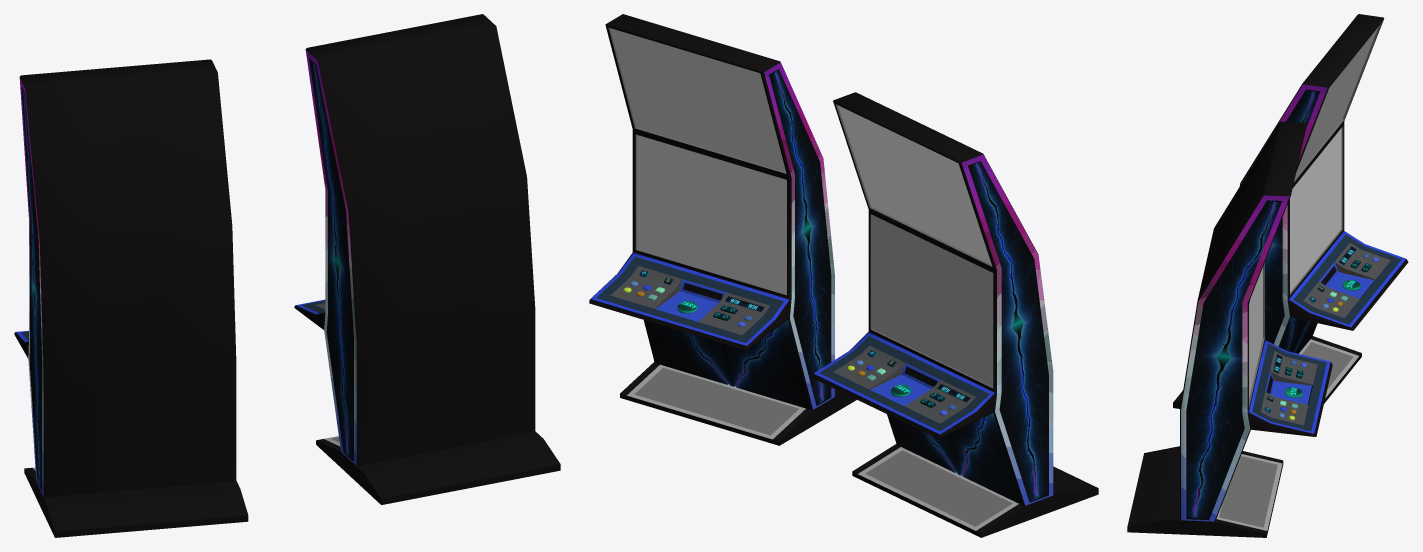
The model's file is Automat1 1.fbx.
The picture shows the model from 3 angles, left to right: view 1: azimuth 30°, elevation 25°; view 2: azimuth 150°, elevation 25°; view 3: azimuth 270°, elevation 25°; orthographic projection. The views are drawn at different scales.
Visible parts, largest first — view 1: SlotMashine.005, SlotMashine.013, SlotMashine.063; view 2: SlotMashine.013, SlotMashine.005, SlotMashine.064, SlotMashine.063; view 3: SlotMashine.013, SlotMashine.005, SlotMashine.063.
Part boxes in pixels (x1,y1,x2,y2): SlotMashine.005: (14,59,248,537); SlotMashine.013: (294,14,560,504); SlotMashine.063: (314,65,347,451); SlotMashine.013: (589,14,856,445); SlotMashine.005: (811,92,1098,537); SlotMashine.064: (927,164,1038,495); SlotMashine.063: (690,72,823,399); SlotMashine.013: (1127,121,1332,537); SlotMashine.005: (1173,14,1408,408); SlotMashine.063: (1192,202,1275,515).
Bounding box in the file's own units: 343 × 272 × 202.
7 materials, 5 textured.
